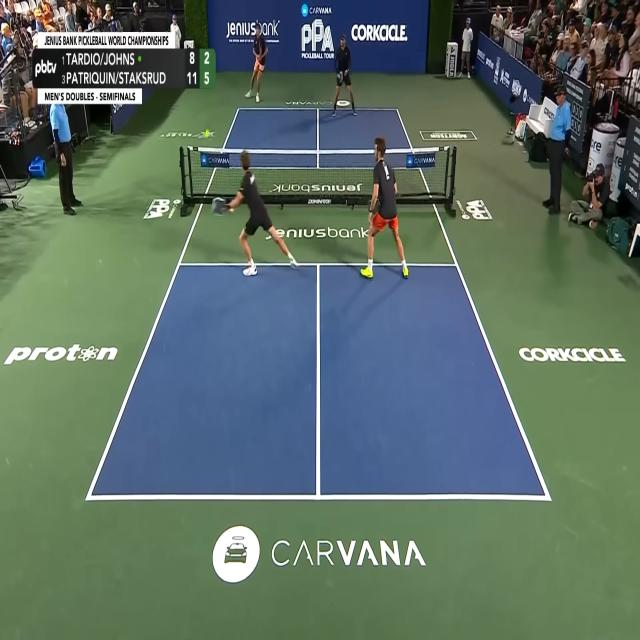ball: (206, 128, 210, 138)
